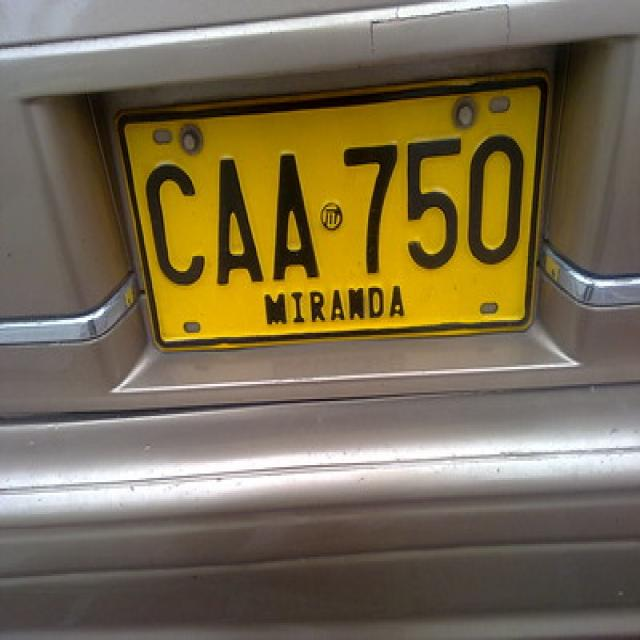placa_carro: (119, 76, 558, 351)
